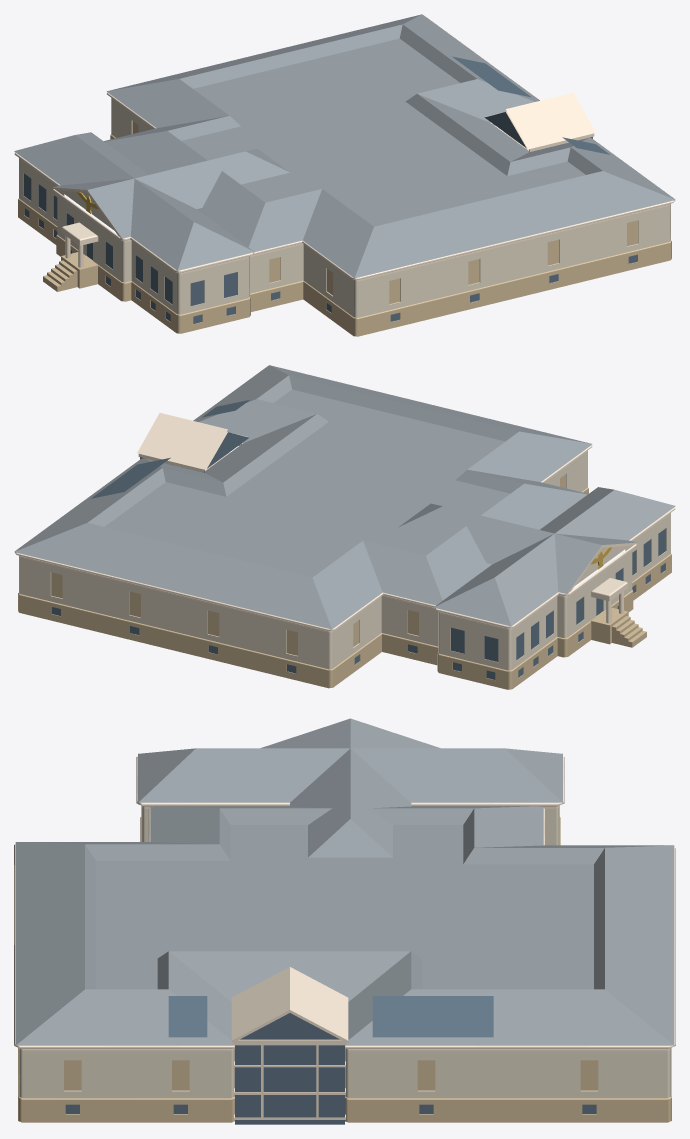
File: mint-museum-randolph.glb
The picture shows the model from 3 angles, top to bottom: view 1: azimuth 30°, elevation 25°; view 2: azimuth 150°, elevation 25°; view 3: azimuth 270°, elevation 25°; orthographic projection. The views are drawn at different scales.
Visible parts, largest first — view 1: Mint Museum Randolph; view 2: Mint Museum Randolph; view 3: Mint Museum Randolph.
Part boxes in pixels (box(x1,y1,x2,y2)): Mint Museum Randolph: box(14, 14, 675, 336); Mint Museum Randolph: box(14, 365, 675, 689); Mint Museum Randolph: box(14, 718, 675, 1124).
Size of the model in its own units: 68.04 by 11.6 by 60.07.
